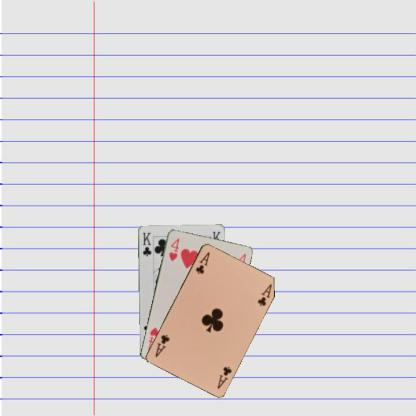4h: (166, 235, 181, 262)
Ac: (214, 363, 233, 390), (193, 249, 211, 275)
Kc: (140, 230, 152, 258)
